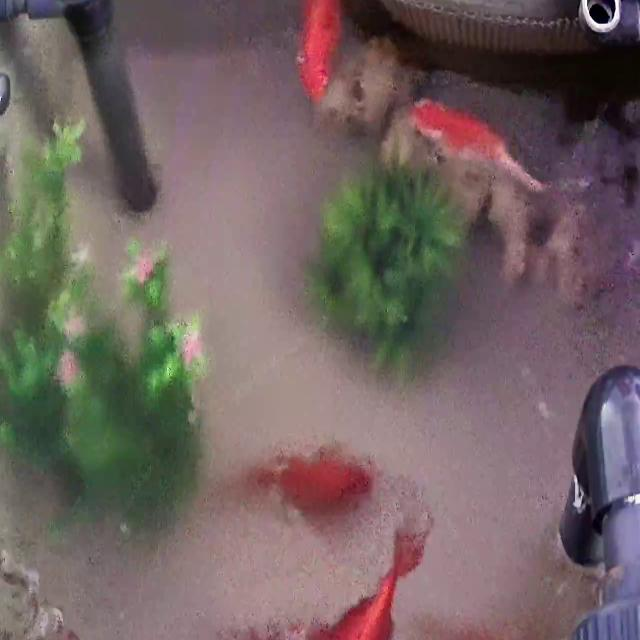fish: (415, 100, 551, 193), (288, 540, 411, 640), (243, 448, 373, 520), (299, 0, 341, 103), (435, 617, 529, 640)
